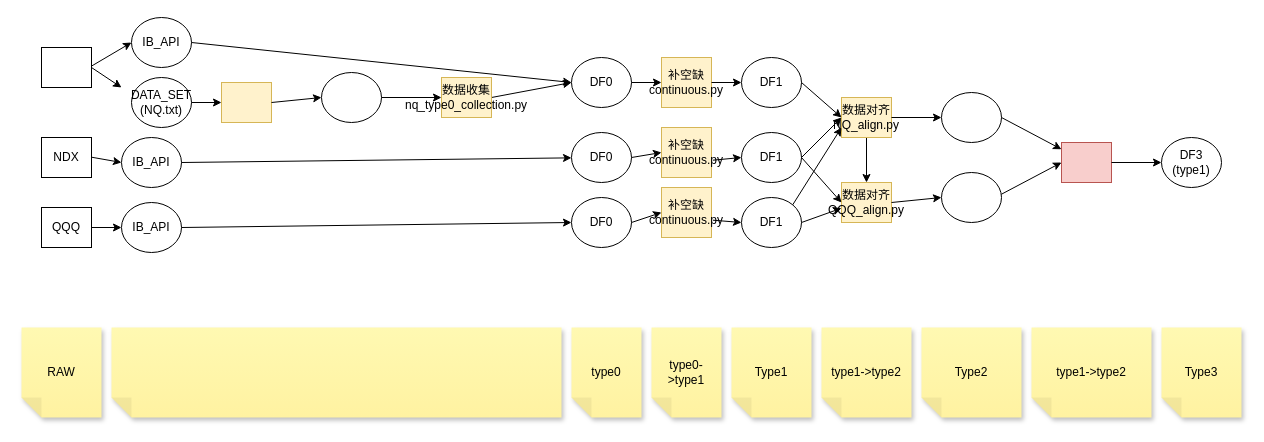
Some shapes in this 1264 by 442 pixel diagram are drawn without their labels. Here are the shapes that lost their labels. From the top down, the centre of each, then its label:
At point (66, 67): "NQ".
At point (246, 102): "时区换算 add_1_hour.py".
At point (351, 97): "DATA_SET_NQ_EDT (.txt)".
At point (971, 117): "DF2 (20:00(-1)-16:00)".
At point (1086, 162): "数据拼接".
At point (971, 197): "DF2 16:00-20:00".
At point (337, 373): "RAW->type0".
